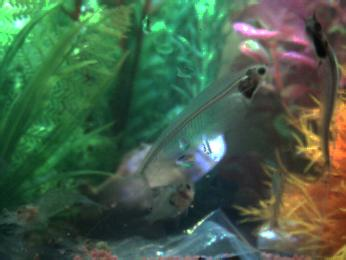X-ray fish: (138, 181, 196, 227), (271, 166, 286, 223)
glassfish: (118, 62, 270, 195), (299, 8, 341, 188)
siberian prawn: (1, 185, 111, 234), (54, 233, 167, 260)
